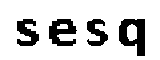e: (48, 18, 77, 49)
q: (116, 17, 151, 59)
s: (12, 17, 41, 48), (85, 17, 107, 49)
